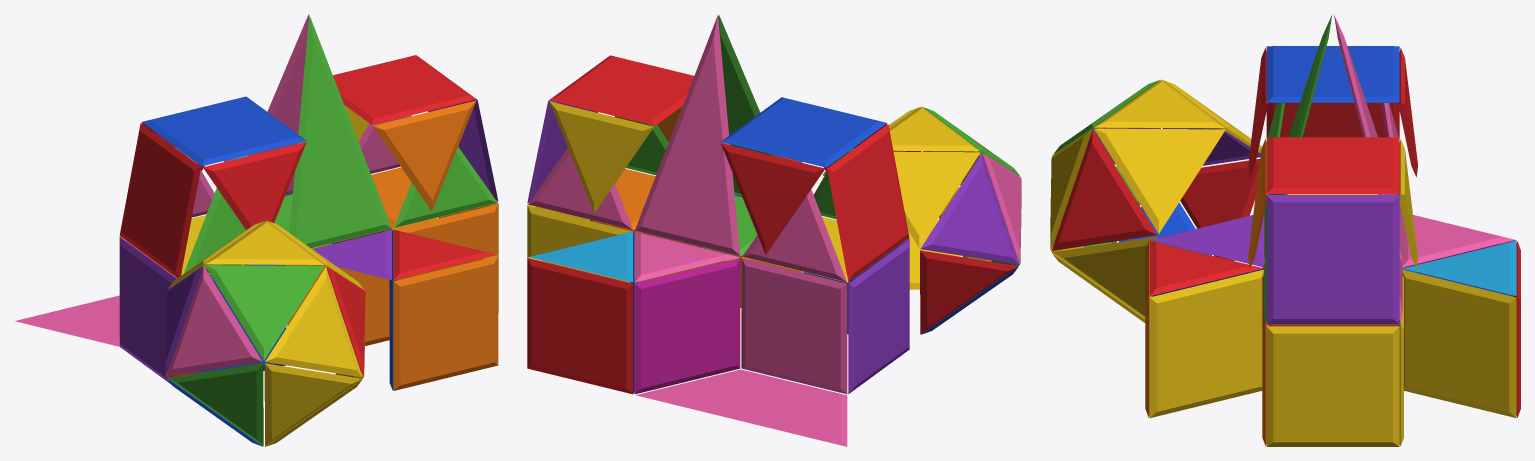
Rendered from tile_starship_panels.glb.
3 views of the same model, side by side, from view 1: azimuth 30°, elevation 25°; view 2: azimuth 150°, elevation 25°; view 3: azimuth 270°, elevation 25° (orthographic). The views are drawn at different scales.
Parts seen in each view (by area): view 1: dome, spire_dome, dome_prism_face, nose_pod_end, nose_pod_roof, tail_pod_roof, nose_cube_front, tail_pod_down_dome, nose_pod_down_dome, tail_pod_up_dome, tail_cube_side_dome, wing_trapezoid (+13 smaller); view 2: dome, spire_wing, nose_cube_side_wing, wing_infill_wall, wing_prism_face, wing_trapezoid, nose_pod_end, nose_cube_front, nose_pod_roof, tail_pod_roof, tail_pod_down_wing, nose_pod_down_wing (+12 smaller); view 3: dome, tail_pod_end, tail_cube_back, dome_prism_wall_tail, wing_prism_wall_tail, tail_pod_roof, nose_pod_roof, dome_prism_roof, wing_prism_roof, nose_pod_end, dome_infill_roof, wing_infill_roof (+10 smaller).
Boxes of the visible parts, x1,y1,x2,y2 form: dome: (165, 220, 365, 446); spire_dome: (289, 15, 391, 247); dome_prism_face: (393, 256, 498, 390); nose_pod_end: (119, 123, 200, 277); nose_pod_roof: (142, 96, 306, 166); tail_pod_roof: (333, 55, 475, 124); nose_cube_front: (119, 237, 176, 383); tail_pod_down_dome: (373, 100, 476, 211); nose_pod_down_dome: (203, 142, 306, 229); tail_pod_up_dome: (394, 146, 497, 227); tail_cube_side_dome: (394, 204, 498, 255); wing_trapezoid: (14, 295, 119, 346); dome: (822, 106, 1021, 334); spire_wing: (635, 15, 740, 255); nose_cube_side_wing: (741, 258, 847, 394); wing_infill_wall: (634, 258, 740, 394); wing_prism_face: (527, 258, 633, 394); wing_trapezoid: (636, 369, 847, 446); nose_pod_end: (827, 124, 909, 281); nose_cube_front: (848, 239, 909, 393); nose_pod_roof: (721, 97, 886, 167); tail_pod_roof: (550, 55, 693, 125); tail_pod_down_wing: (549, 101, 653, 212); nose_pod_down_wing: (721, 143, 825, 254); dome: (1050, 79, 1261, 322); tail_pod_end: (1266, 195, 1399, 324); tail_cube_back: (1266, 326, 1399, 446); dome_prism_wall_tail: (1149, 269, 1263, 417); wing_prism_wall_tail: (1402, 270, 1516, 418); tail_pod_roof: (1266, 137, 1399, 193); nose_pod_roof: (1266, 46, 1399, 102); dome_prism_roof: (1149, 240, 1263, 295); wing_prism_roof: (1403, 240, 1516, 296); nose_pod_end: (1266, 102, 1399, 137); dome_infill_roof: (1151, 214, 1264, 267); wing_infill_roof: (1401, 214, 1514, 267).
Bounding box in the file's own units: 3.6 × 2.87 × 3.49.
